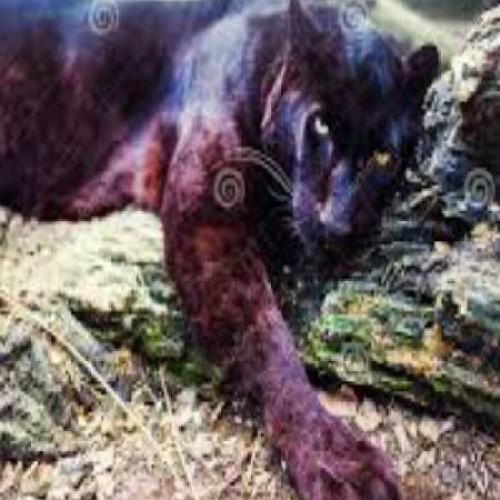panther-endangered: (0, 0, 444, 500)
